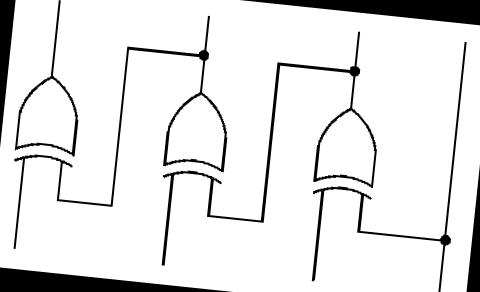xor: (304, 99, 385, 206), (154, 84, 236, 188), (7, 66, 86, 172)
